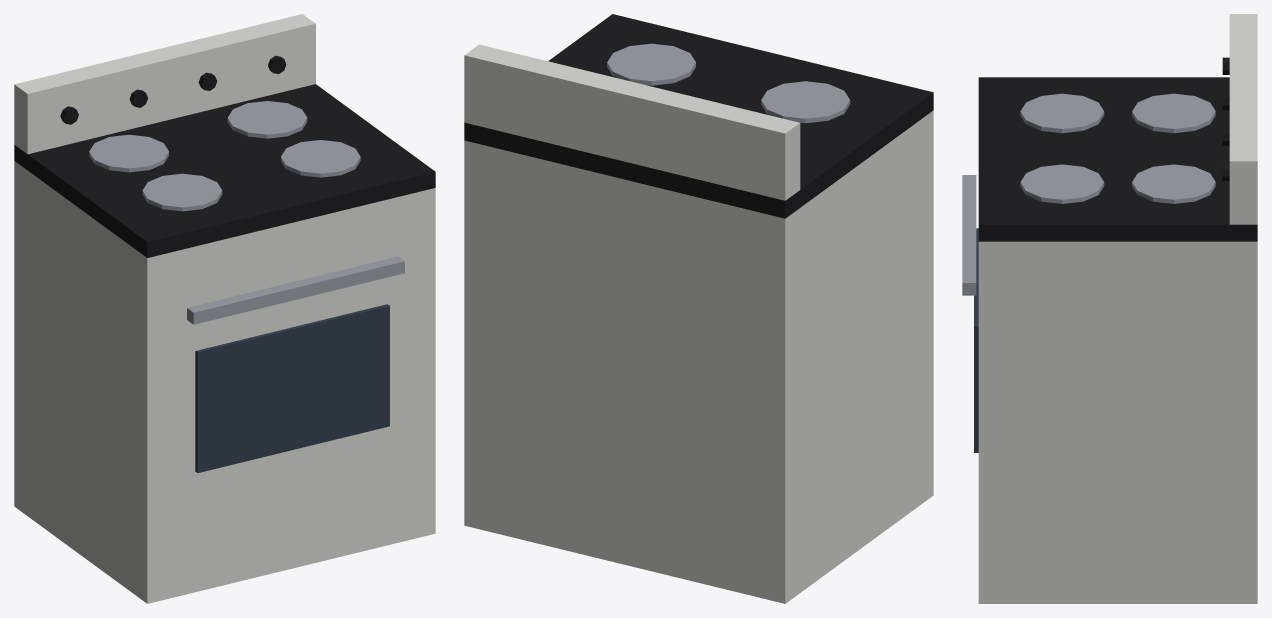
Rendered from stove.glb.
The picture shows the model from 3 angles, left to right: view 1: azimuth 30°, elevation 25°; view 2: azimuth 150°, elevation 25°; view 3: azimuth 270°, elevation 25°; orthographic projection. The views are drawn at different scales.
Parts seen in each view (by area): view 1: stove; view 2: stove; view 3: stove.
Boxes of the visible parts, x1,y1,x2,y2 form: stove: (14,14,435,603); stove: (464,14,933,603); stove: (962,14,1257,603).
Size of the model in its own units: 0.75 by 1.05 by 0.635.
